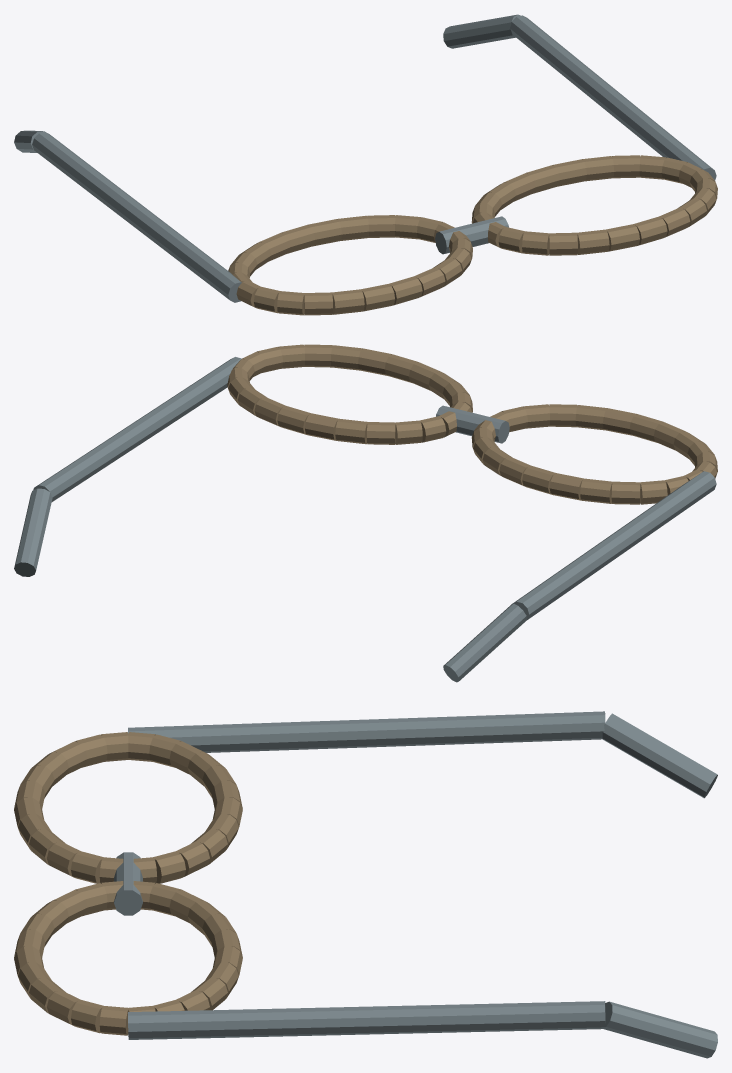
The model's file is PZ-06_folding_glasses.glb.
The picture shows the model from 3 angles, top to bottom: view 1: azimuth 30°, elevation 25°; view 2: azimuth 150°, elevation 25°; view 3: azimuth 270°, elevation 25°; orthographic projection. The views are drawn at different scales.
Parts seen in each view (by area): view 1: PZ-06_folding_glasses; view 2: PZ-06_folding_glasses; view 3: PZ-06_folding_glasses.
Boxes of the visible parts, box(x1,y1,x2,y2) form: PZ-06_folding_glasses: box(14, 14, 717, 315); PZ-06_folding_glasses: box(14, 344, 717, 682); PZ-06_folding_glasses: box(14, 711, 717, 1058).
Bounding box in the file's own units: 0.1421 × 0.0151 × 0.1402.
